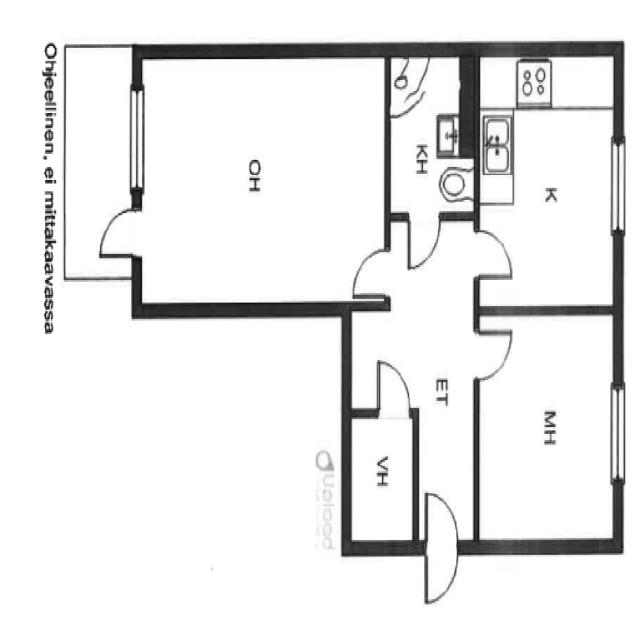door: (419, 484, 462, 610), (369, 354, 416, 423), (92, 202, 145, 259), (468, 222, 518, 282), (347, 242, 396, 302), (472, 320, 514, 383), (404, 210, 443, 275)
window: (606, 132, 630, 245), (125, 82, 148, 198), (607, 378, 630, 492)
zone: (134, 58, 392, 308), (477, 46, 617, 313), (477, 309, 619, 548), (387, 51, 475, 219), (347, 408, 416, 549)
